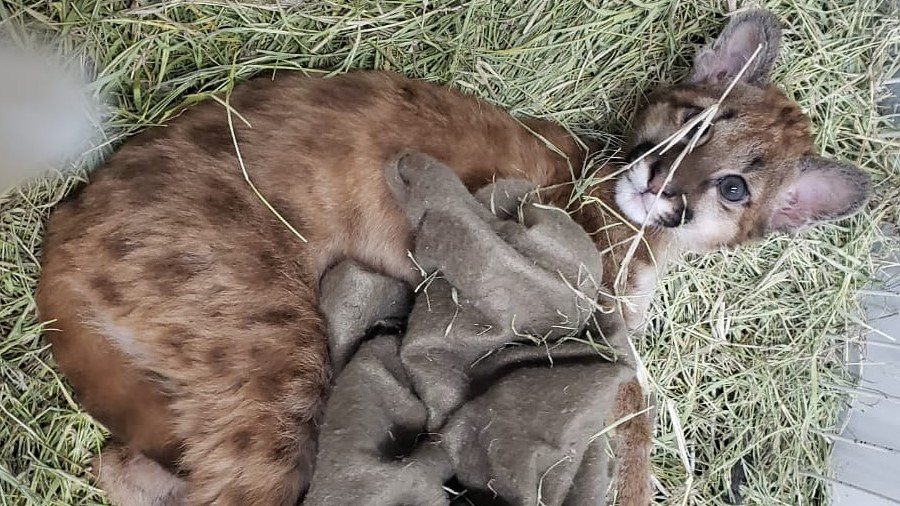OncaParda: (29, 6, 875, 465)
